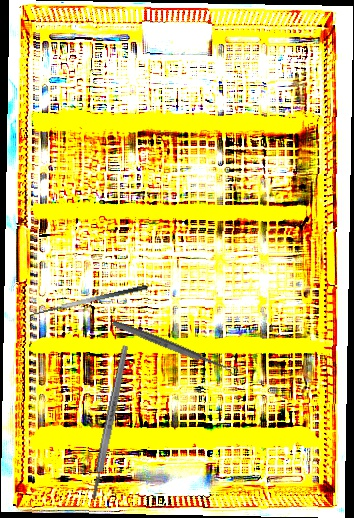Scalpel Handle: (88, 344, 131, 501)
Spatula Surgical: (26, 283, 151, 325)
Surgical Spoon: (111, 318, 238, 377)
